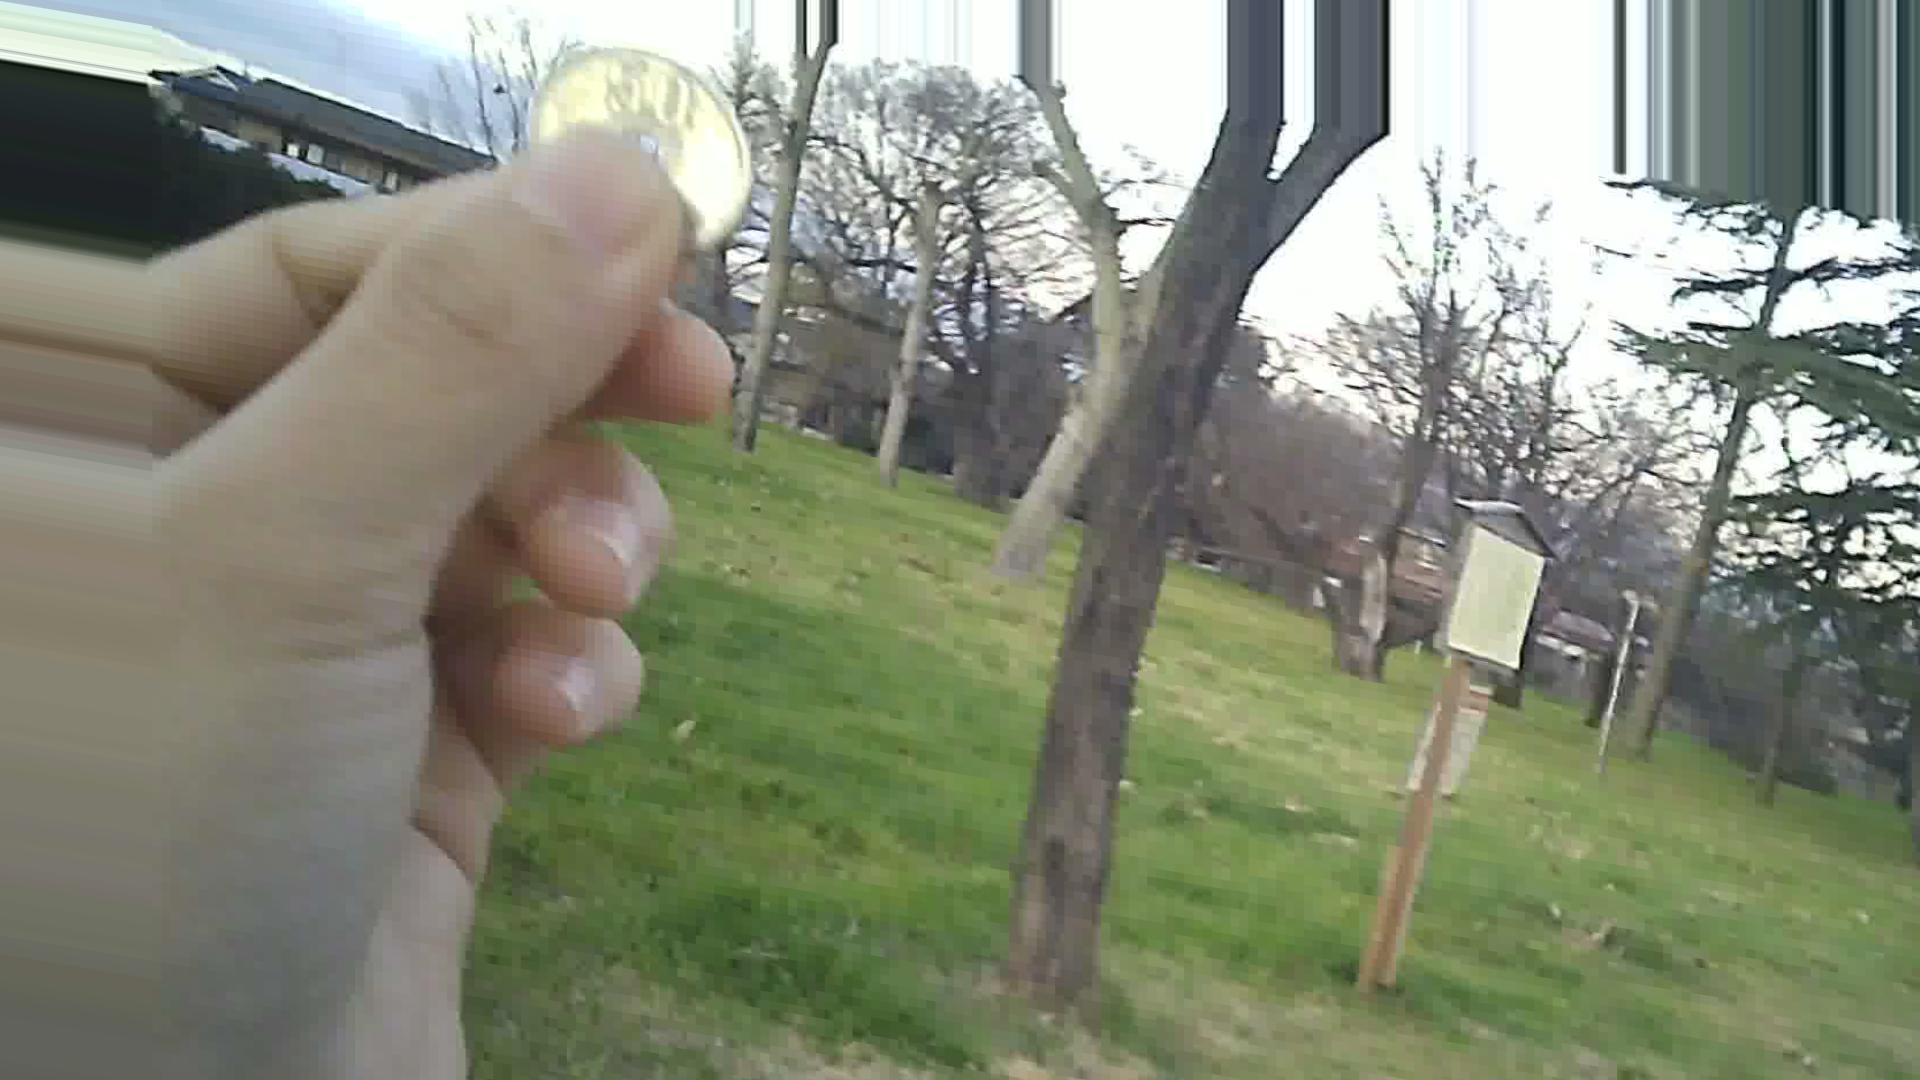50 Yen: (527, 49, 741, 255)
